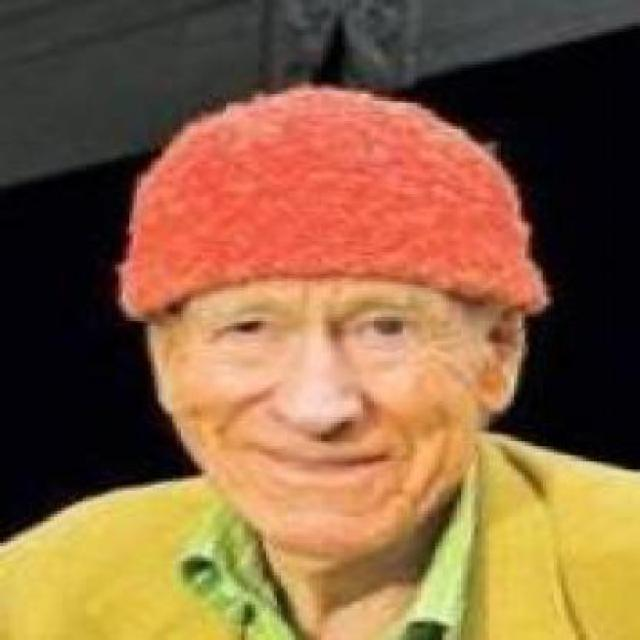closed-mouth: (254, 434, 403, 488)
